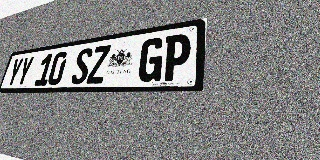0: (47, 51, 68, 85)
1: (34, 53, 55, 86)
G: (136, 37, 165, 82)
P: (161, 33, 192, 81)
S: (70, 47, 94, 85)
Y: (15, 56, 35, 86), (5, 58, 24, 87)
Z: (86, 45, 111, 84)
